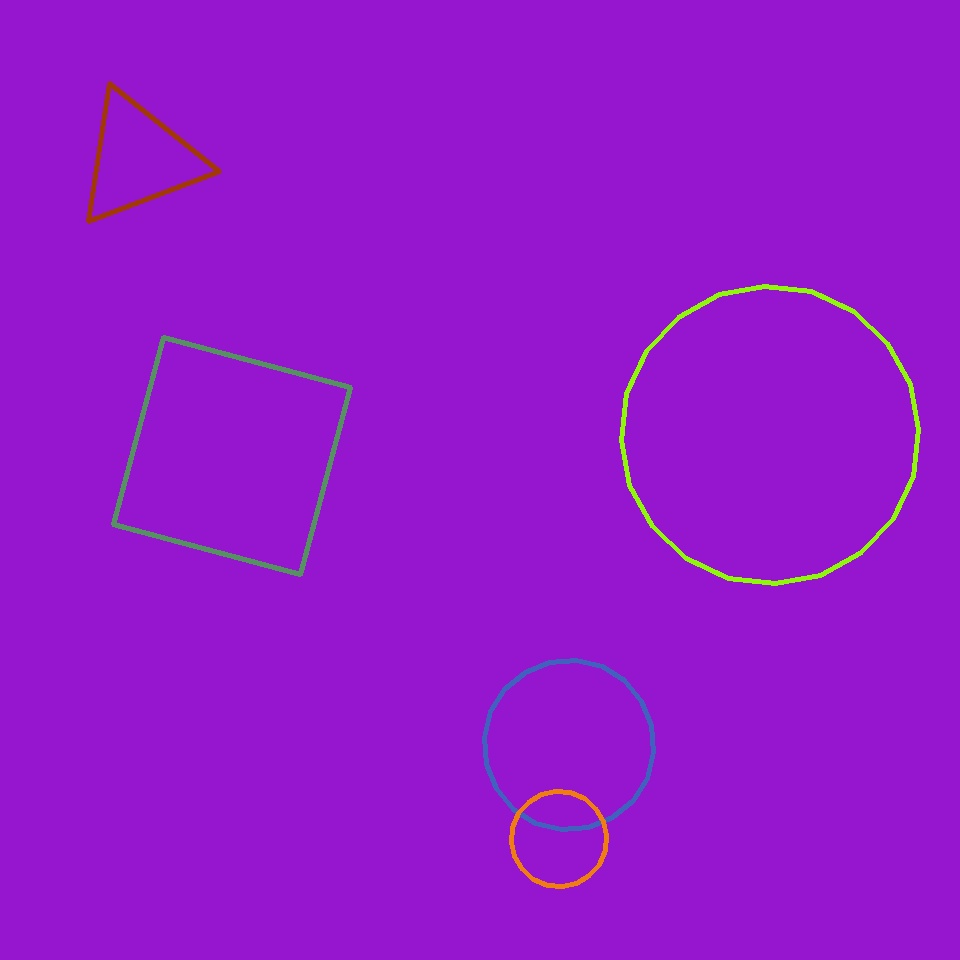circle: (74, 90, 204, 228)
square: (114, 338, 350, 574)
triangle: (622, 286, 918, 584), (484, 660, 654, 830), (512, 792, 606, 886)
